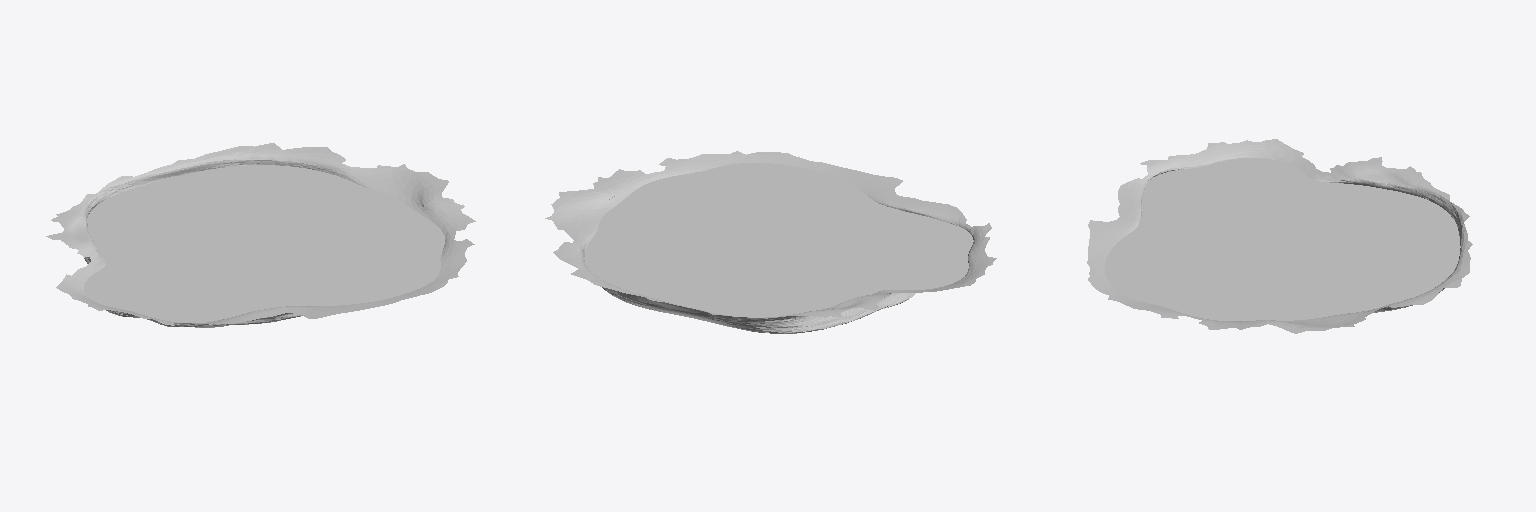
File: terrain.obj
The picture shows the model from 3 angles: view 1: azimuth 30°, elevation 25°; view 2: azimuth 150°, elevation 25°; view 3: azimuth 270°, elevation 25°; orthographic projection.
Bounding box in the file's own units: 15.11 × 1.65 × 12.51.